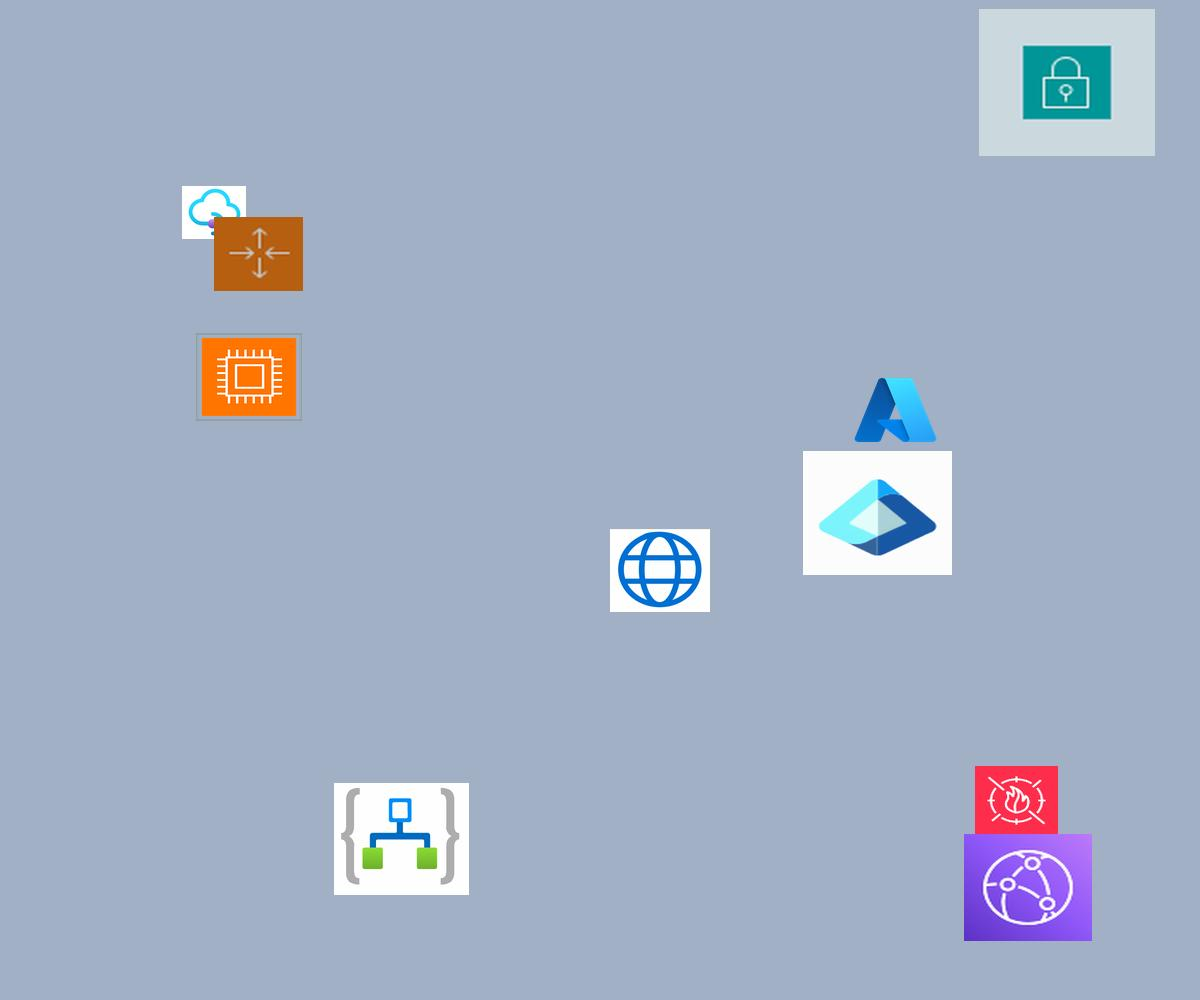AWS-Category_Compute: (196, 333, 302, 421)
AWS-CloudFront: (964, 834, 1092, 941)
AWS-Private-subnet: (979, 9, 1155, 156)
AWS-Scaling-group: (214, 217, 303, 291)
AWS-WAF: (975, 766, 1058, 835)
Azure_api_gateway: (182, 186, 246, 239)
Azure_http: (610, 529, 710, 612)
Azure_integration-204-Logic-Apps: (334, 783, 469, 895)
Azure_microsoft_entra: (803, 451, 952, 575)
Azure_services: (851, 373, 940, 447)
